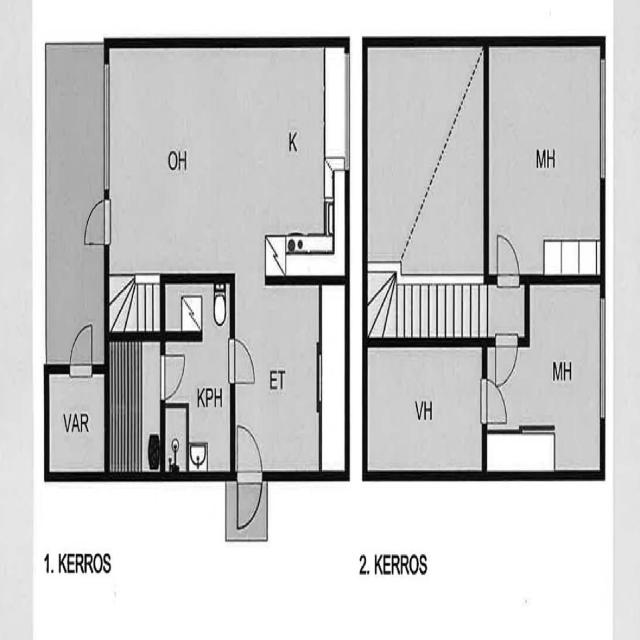door: (232, 424, 264, 528), (228, 335, 257, 395), (479, 373, 506, 429), (494, 228, 520, 284), (84, 204, 113, 253), (494, 333, 518, 392), (68, 324, 95, 374), (159, 351, 185, 399)
window: (598, 53, 610, 189), (100, 62, 112, 191), (340, 49, 351, 170), (598, 291, 608, 421)
zone: (104, 42, 348, 280), (365, 32, 487, 283), (490, 38, 606, 284), (231, 283, 347, 477), (486, 280, 600, 468), (362, 342, 482, 468), (163, 281, 231, 476), (106, 331, 162, 476), (46, 367, 108, 475)
